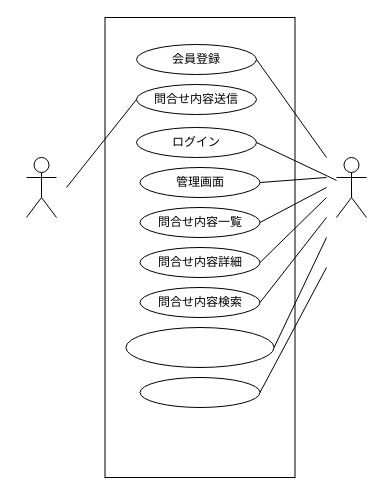
The diagram is 386 pixels wide and 495 high, and some of its shapes have lost their labels. Each missing label, with the box of its shape:
ユーザー: (26, 156, 56, 218)
問合せ内容エクスポート: (125, 326, 274, 368)
問合せ内容削除: (139, 376, 260, 408)
管理者: (336, 156, 366, 218)
